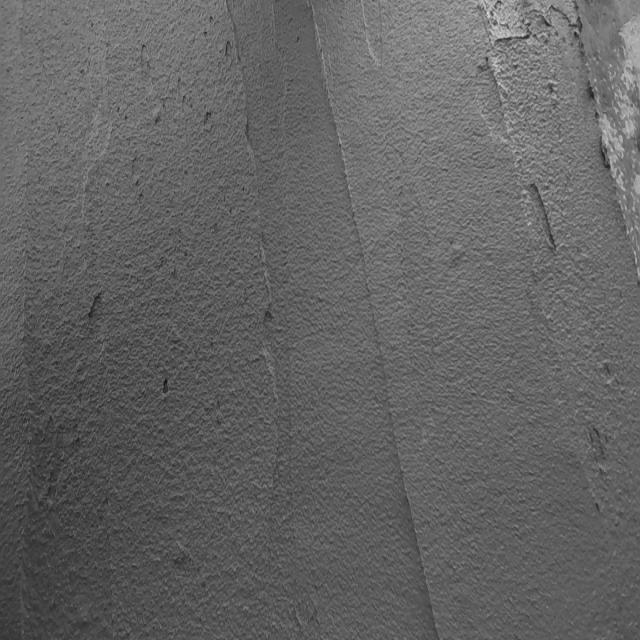trowels marks: (320, 35, 430, 639), (223, 12, 287, 490), (19, 155, 38, 630)
